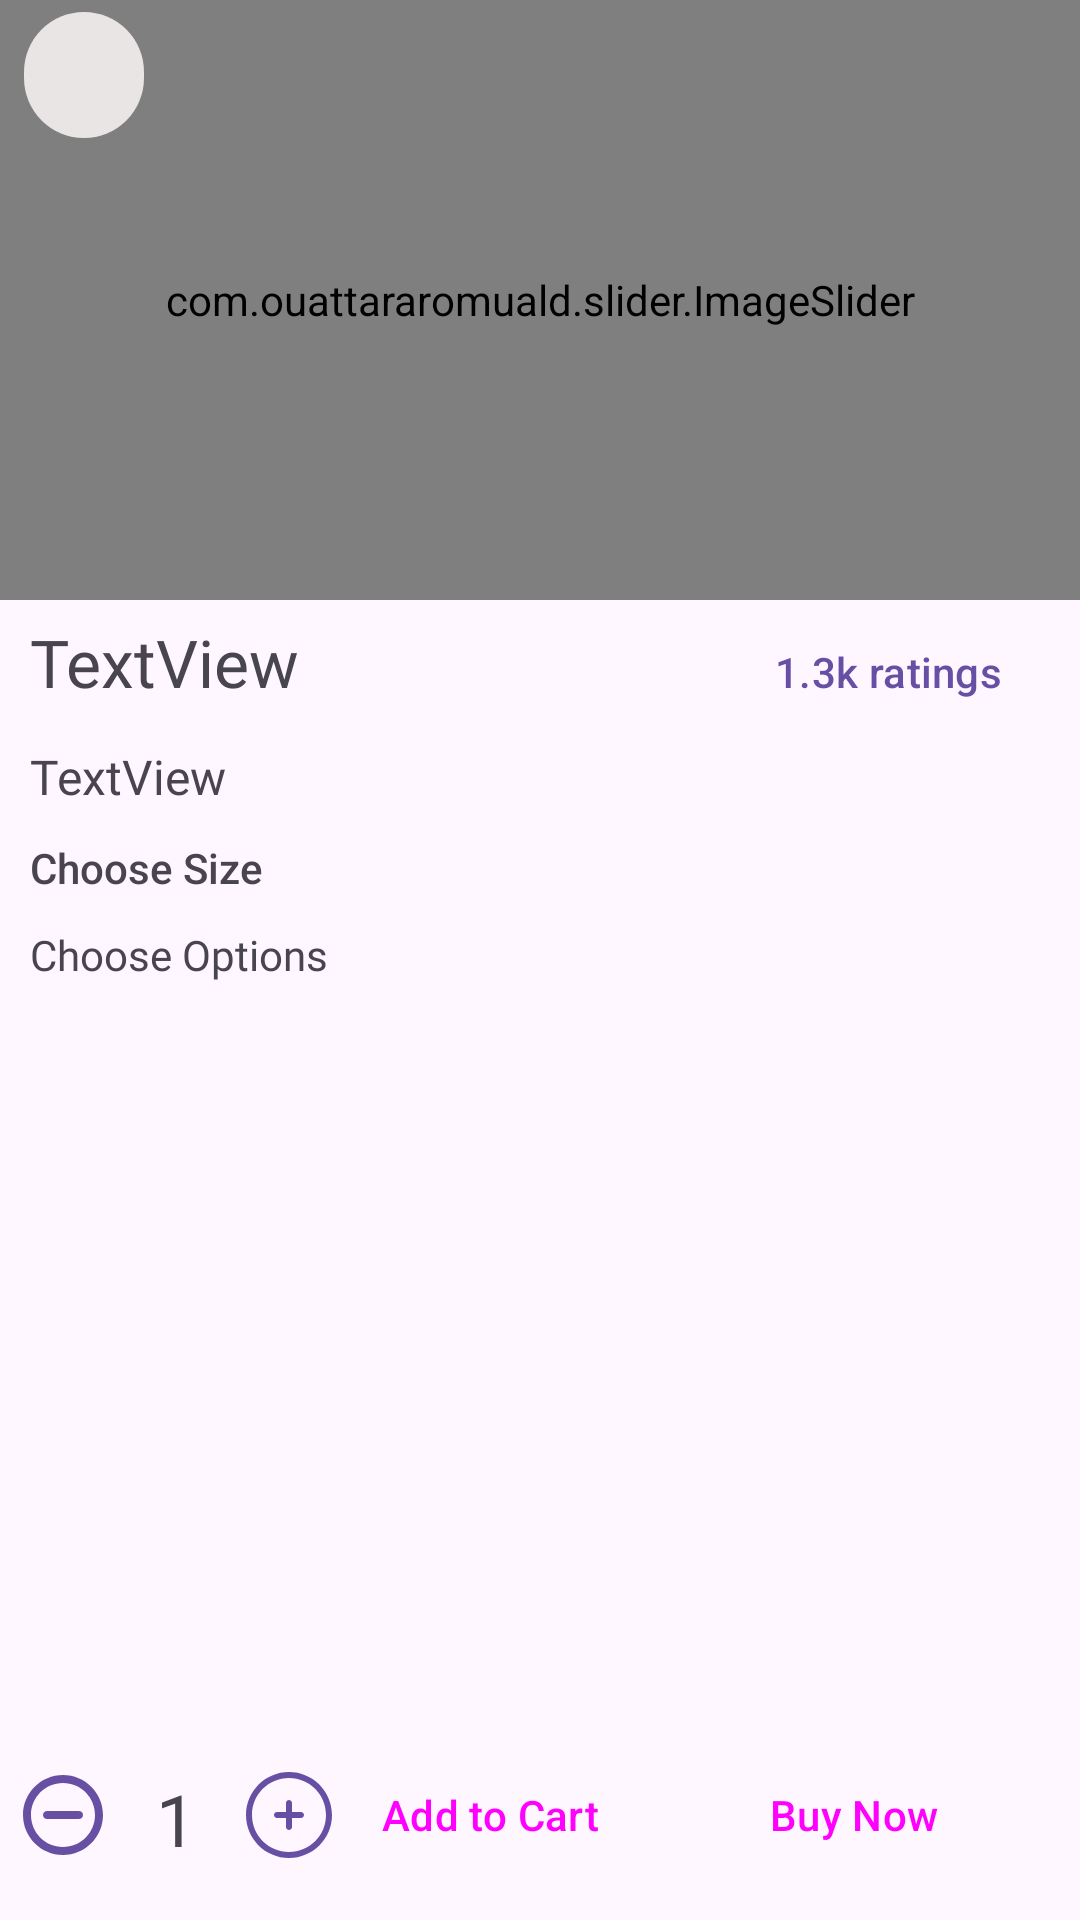

Where icons sit on this 1080px×1920px app screen, as bbox=[x1, y1, x2, y2]:
substract: bbox=[23, 1775, 103, 1855]
